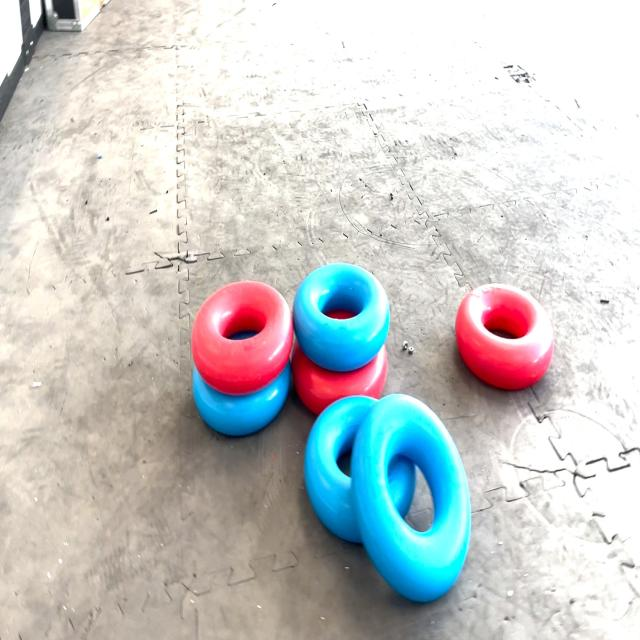Blue-Ring: (351, 393, 471, 602), (292, 262, 390, 371), (304, 396, 375, 542), (192, 362, 291, 436)
Red-Ring: (191, 280, 294, 396), (455, 284, 554, 389), (291, 342, 388, 414)
